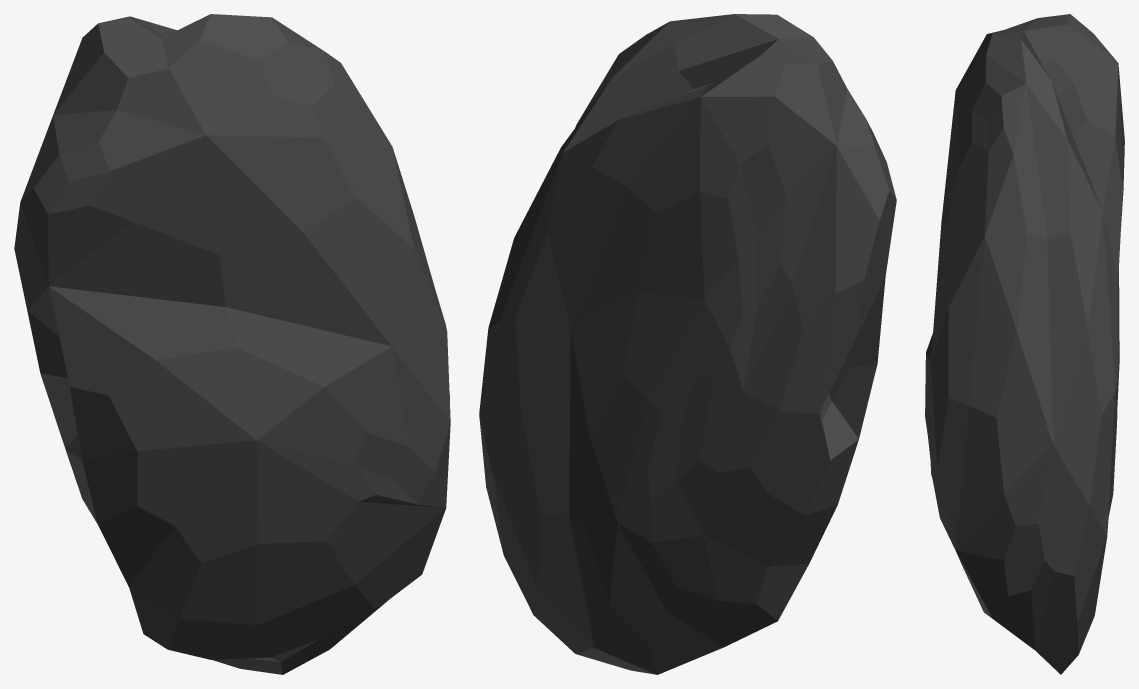
Rendered from Asteroid (3).glb.
The picture shows the model from 3 angles, left to right: view 1: azimuth 30°, elevation 25°; view 2: azimuth 150°, elevation 25°; view 3: azimuth 270°, elevation 25°; orthographic projection. The views are drawn at different scales.
Parts seen in each view (by area): view 1: Sphere.014; view 2: Sphere.014; view 3: Sphere.014.
Part boxes in pixels (<box>): Sphere.014: <box>14,14,450,674</box>; Sphere.014: <box>479,14,896,674</box>; Sphere.014: <box>925,14,1124,674</box>.
Bounding box in the file's own units: 13.51 × 22.17 × 6.88.
Materials: 1 (1 with a texture image).
